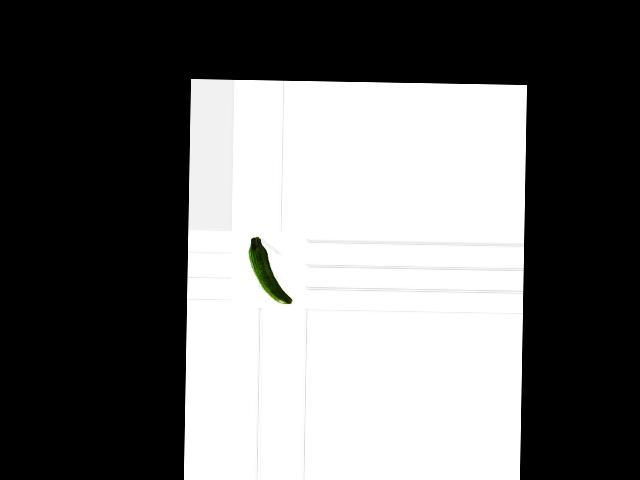cucumber: (248, 236, 294, 304)
